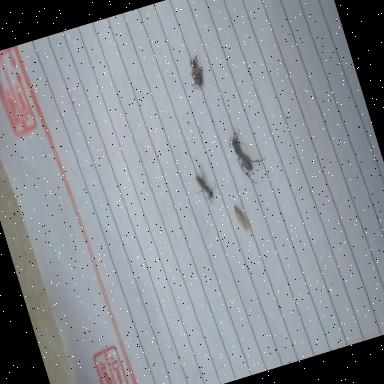pbw: (232, 201, 252, 237)
